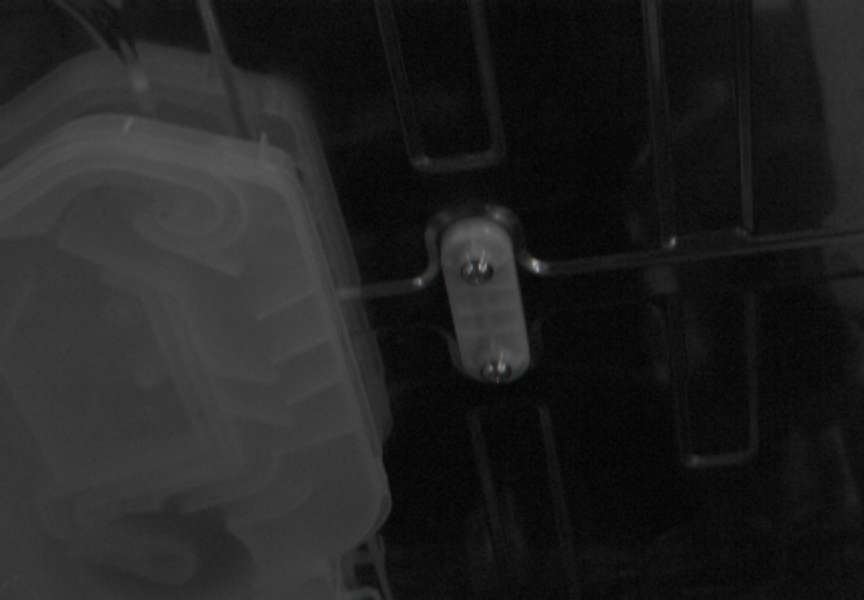screw: (460, 258, 494, 285), (481, 358, 512, 384)
